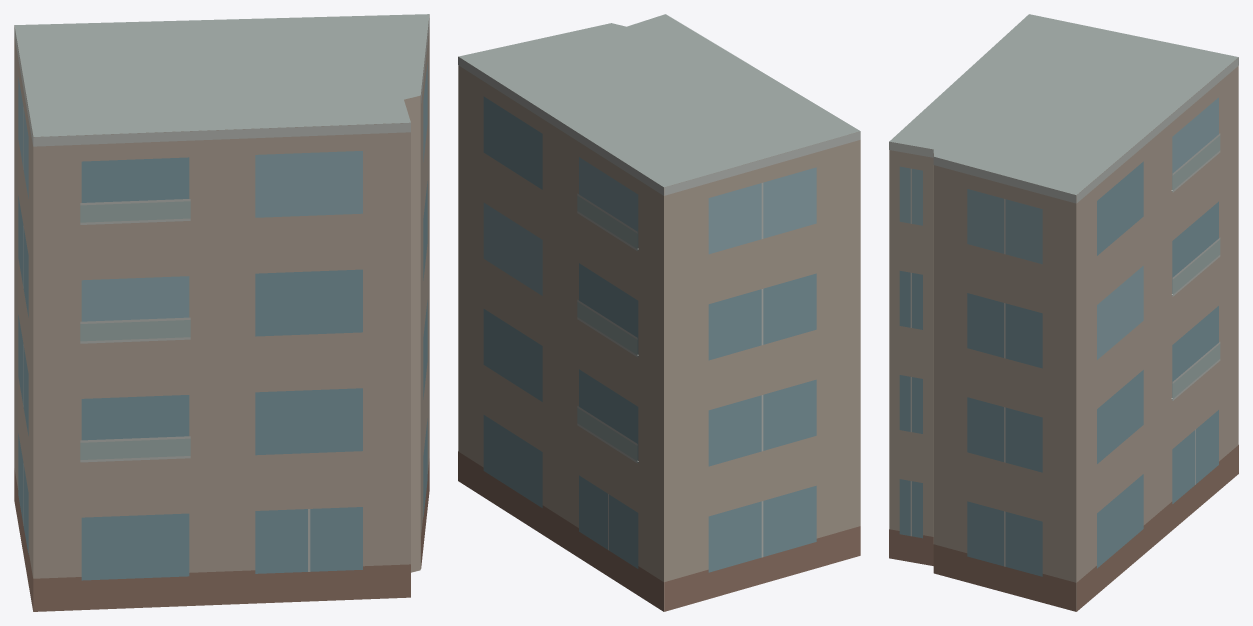
File: survey-upis-32725406.glb
3 renders of one model, left to right at view 1: azimuth 30°, elevation 25°; view 2: azimuth 150°, elevation 25°; view 3: azimuth 270°, elevation 25°, orthographic. The views are drawn at different scales.
Parts seen in each view (by area): view 1: survey-upis-32725406.tmp; view 2: survey-upis-32725406.tmp; view 3: survey-upis-32725406.tmp.
Boxes of the visible parts, bbox=[...] form: survey-upis-32725406.tmp: bbox=[14, 14, 429, 611]; survey-upis-32725406.tmp: bbox=[458, 14, 860, 611]; survey-upis-32725406.tmp: bbox=[889, 14, 1238, 611].
Size of the model in its own units: 11.29 by 12.1 by 9.21.
